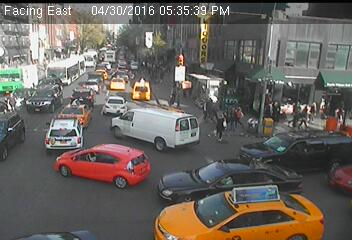neg: (164, 53, 187, 83), (74, 84, 94, 112)
pos: (212, 114, 234, 144)
